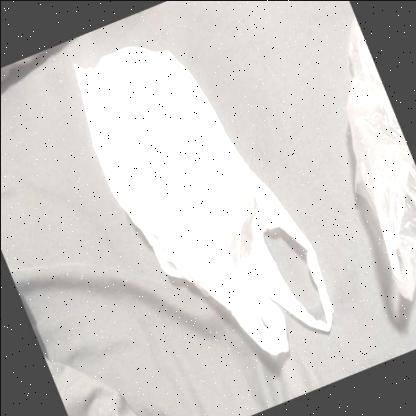Others: (70, 45, 334, 351)
